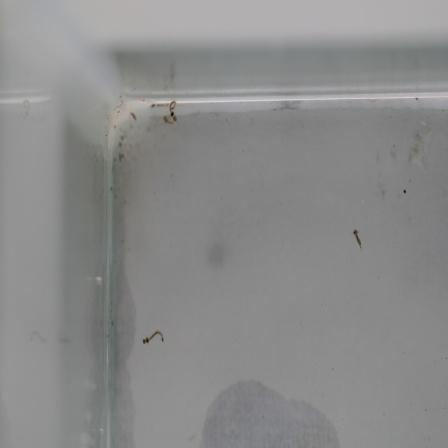Jentik-Nyamuk: (160, 97, 182, 130), (138, 328, 168, 348), (350, 227, 364, 252)
